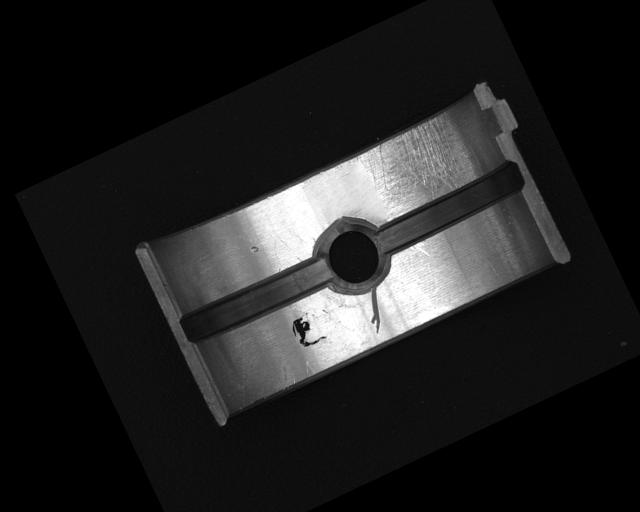blot: (286, 308, 328, 352)
bruise: (247, 243, 262, 256)
gap: (175, 245, 340, 352), (372, 158, 529, 257)
hole: (303, 208, 399, 304)
nick: (355, 285, 394, 336), (411, 239, 431, 261)
scratch: (355, 107, 487, 221)
